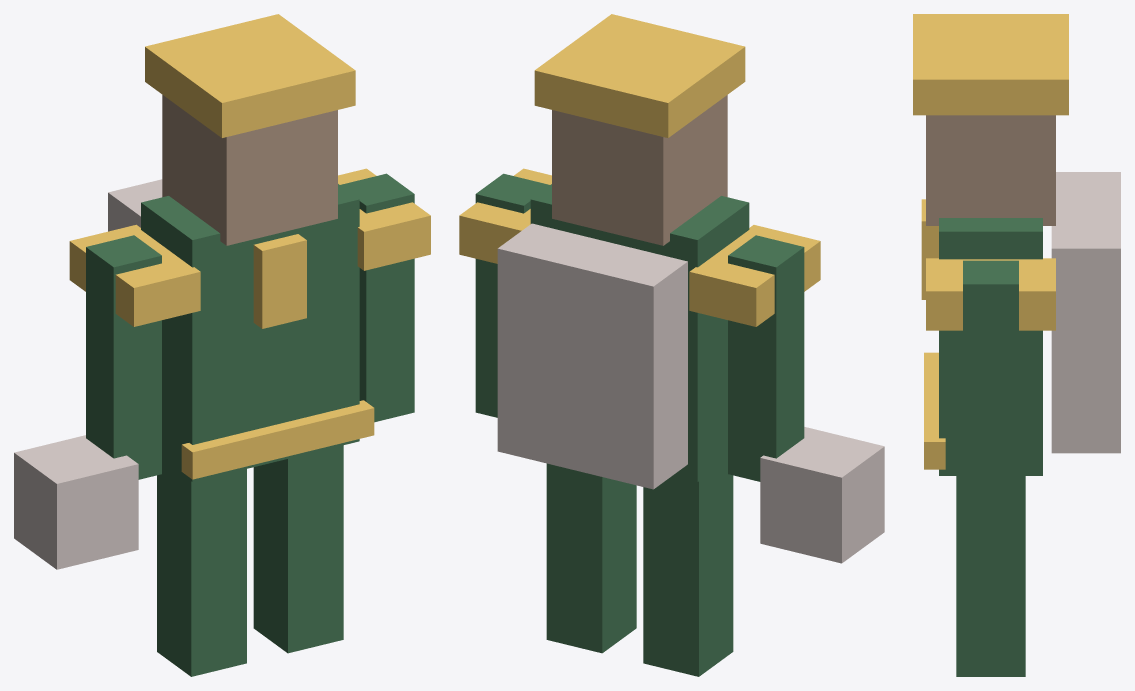
Rendered from 09_dax_cragwarden_smith_near.glb.
The picture shows the model from 3 angles, left to right: view 1: azimuth 30°, elevation 25°; view 2: azimuth 150°, elevation 25°; view 3: azimuth 270°, elevation 25°; orthographic projection.
Parts seen in each view (by area): view 1: Dax Cragwarden, Smith near; view 2: Dax Cragwarden, Smith near; view 3: Dax Cragwarden, Smith near.
Boxes of the visible parts, bbox=[...] form: Dax Cragwarden, Smith near: bbox=[14, 14, 430, 676]; Dax Cragwarden, Smith near: bbox=[459, 14, 884, 676]; Dax Cragwarden, Smith near: bbox=[913, 14, 1120, 676].
Size of the model in its own units: 1.03 by 1.57 by 0.4975.
